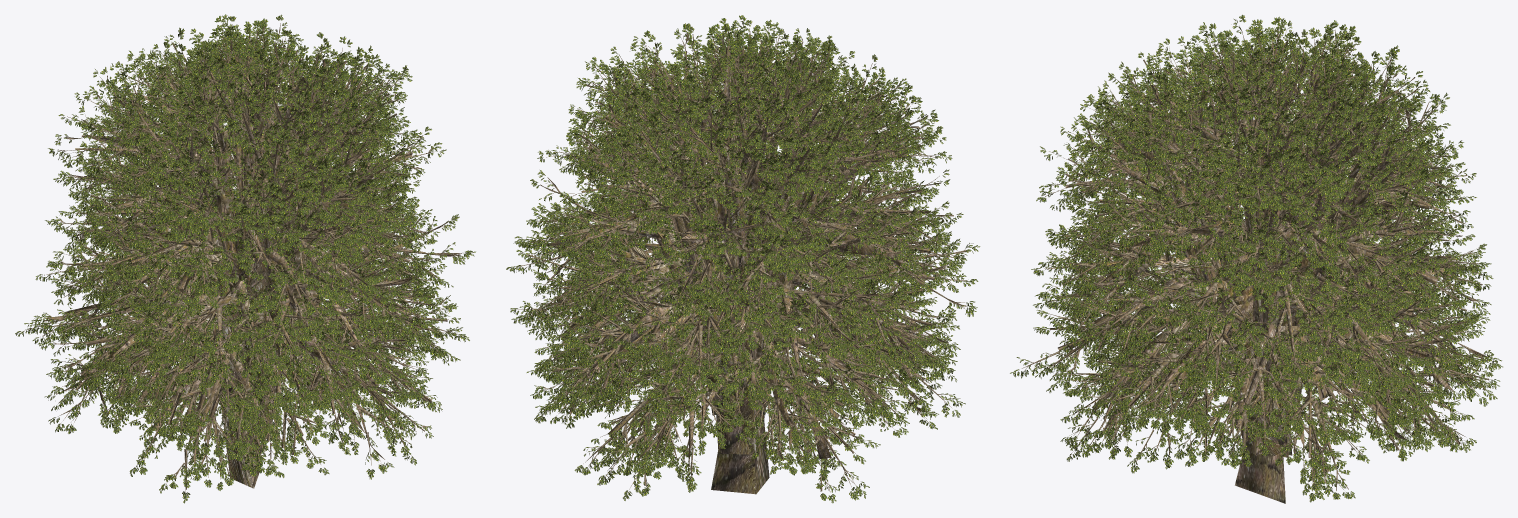
The model's file is encina.glb.
The picture shows the model from 3 angles, left to right: view 1: azimuth 30°, elevation 25°; view 2: azimuth 150°, elevation 25°; view 3: azimuth 270°, elevation 25°; orthographic projection. The views are drawn at different scales.
Visible parts, largest first — view 1: leaves, tree; view 2: leaves, tree; view 3: leaves, tree.
Part boxes in pixels (<box>): leaves: <box>15,14,475,503</box>; tree: <box>17,23,462,493</box>; leaves: <box>506,15,980,503</box>; tree: <box>517,25,971,494</box>; leaves: <box>1010,14,1502,502</box>; tree: <box>1015,27,1493,503</box>.
Bounding box in the file's own units: 11.66 × 12.07 × 11.96.
Materials: 2 (2 with a texture image).
